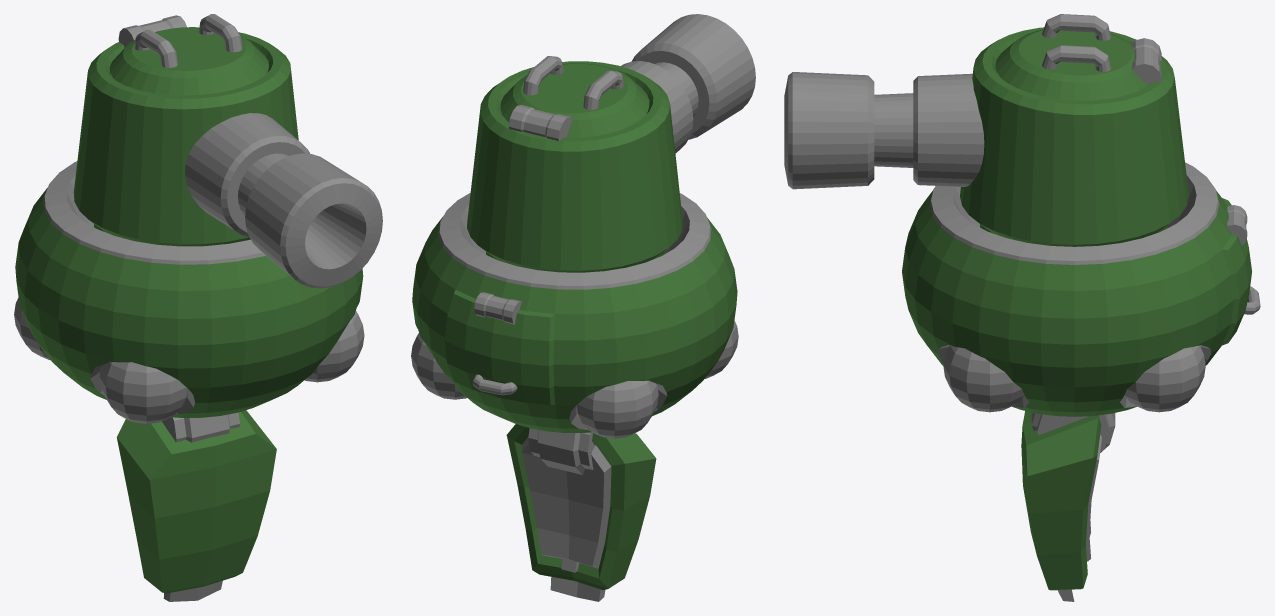
Rendered from Walking Tank.fbx.
3 renders of one model, left to right at view 1: azimuth 30°, elevation 25°; view 2: azimuth 150°, elevation 25°; view 3: azimuth 270°, elevation 25°, orthographic. The views are drawn at different scales.
Visible parts, largest first — view 1: Turret, Body, Leg_Outer; view 2: Body, Turret, Leg_Outer; view 3: Turret, Body, Leg_Outer.
Boxes of the visible parts, left/top/right/bottom form: Turret: left=73, top=14, right=382, bottom=288; Body: left=14, top=161, right=364, bottom=423; Leg_Outer: left=116, top=410, right=276, bottom=601; Body: left=411, top=193, right=738, bottom=438; Turret: left=467, top=14, right=755, bottom=272; Leg_Outer: left=506, top=424, right=656, bottom=601; Turret: left=784, top=14, right=1189, bottom=246; Body: left=902, top=162, right=1260, bottom=416; Leg_Outer: left=1021, top=411, right=1115, bottom=601.
Size of the model in its own units: 121 by 217 by 167.
